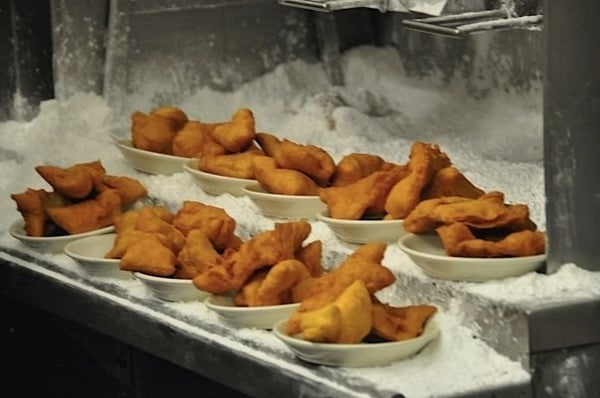sushi: (275, 239, 440, 366), (275, 279, 442, 367), (397, 198, 549, 283), (398, 231, 550, 283), (316, 214, 408, 244)
